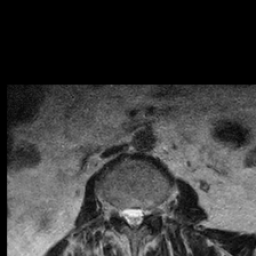CCS_normal: (129, 200, 137, 236)
LFS_stenosis: (145, 198, 154, 222)
LLS_normal: (137, 200, 145, 229)
RFS_normal: (112, 198, 121, 224)
RLS_normal: (121, 201, 129, 228)
